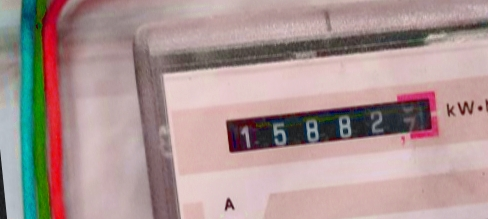1: (236, 123, 253, 152)
2: (366, 109, 385, 138)
5: (268, 121, 288, 149)
7: (399, 116, 416, 134)
8: (301, 117, 319, 147), (334, 113, 352, 142)
screen: (209, 84, 449, 169)
